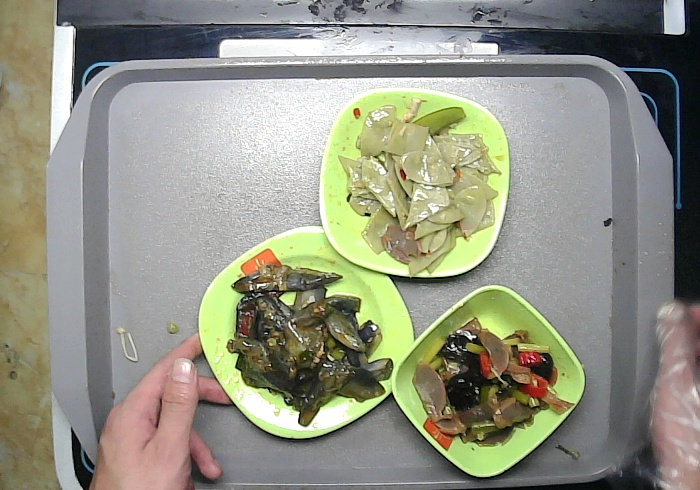SHKJ-Lv_Se_Cai_Die: (316, 84, 511, 280)
SHKJ-Lv_Se_Si_Fang_Cai_Die: (195, 224, 418, 443)
SHKJ-Lv_Se_Xiao_Fang_Die: (388, 282, 588, 481)
